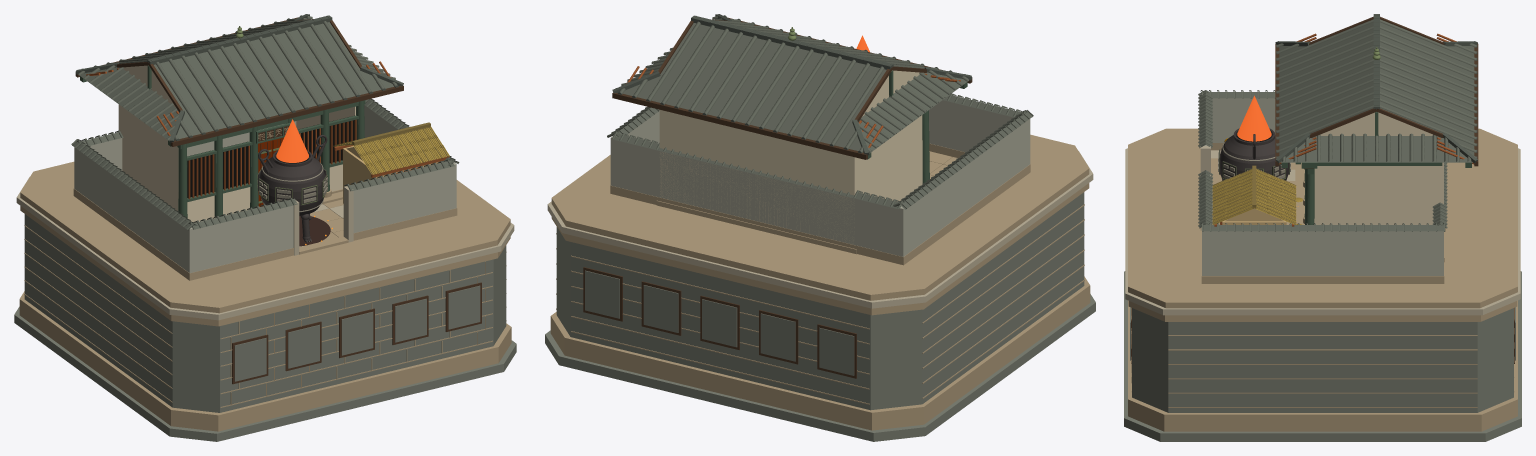
File: xy_doushuai.glb
3 views of the same model, side by side, from view 1: azimuth 30°, elevation 25°; view 2: azimuth 150°, elevation 25°; view 3: azimuth 270°, elevation 25° (orthographic). The views are drawn at different scales.
Parts seen in each view (by area): view 1: xy_doushuai; view 2: xy_doushuai; view 3: xy_doushuai.
Boxes of the visible parts, x1,y1,x2,y2 form: xy_doushuai: (14, 14, 516, 441); xy_doushuai: (545, 14, 1095, 441); xy_doushuai: (1124, 14, 1521, 441).
Bounding box in the file's own units: 22 × 17.71 × 20.87.
